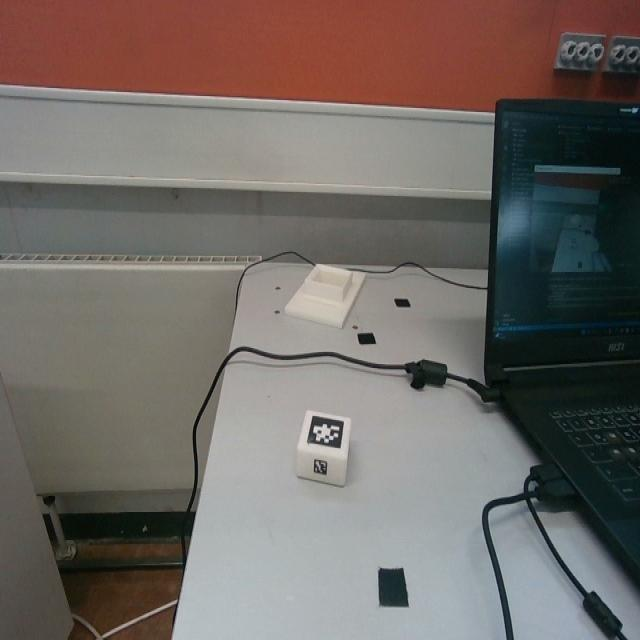Cube: (296, 406, 352, 486)
